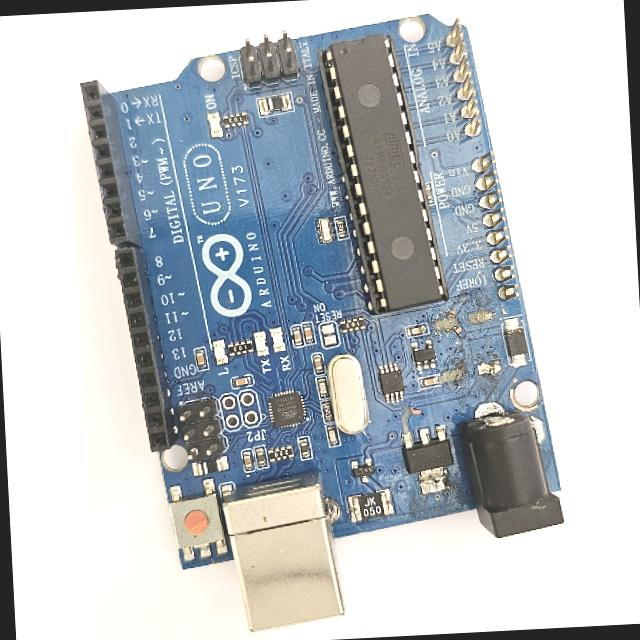missing_analog_pins: (440, 15, 527, 314)
missing_capacitors: (429, 300, 513, 397)
